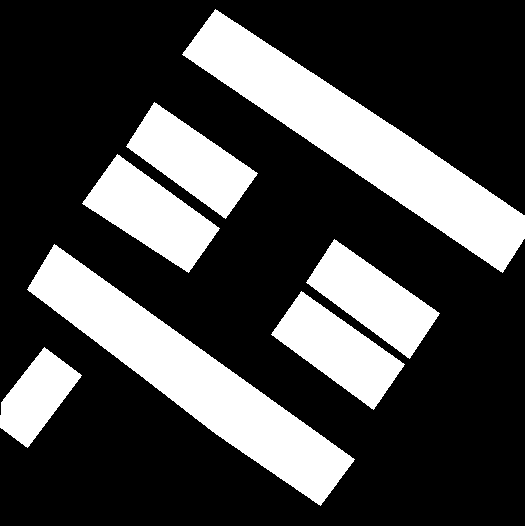parkingspot: (182, 9, 525, 272), (27, 244, 354, 505), (82, 154, 219, 272), (306, 239, 439, 358), (271, 291, 404, 409), (126, 102, 257, 218), (0, 347, 81, 447)
